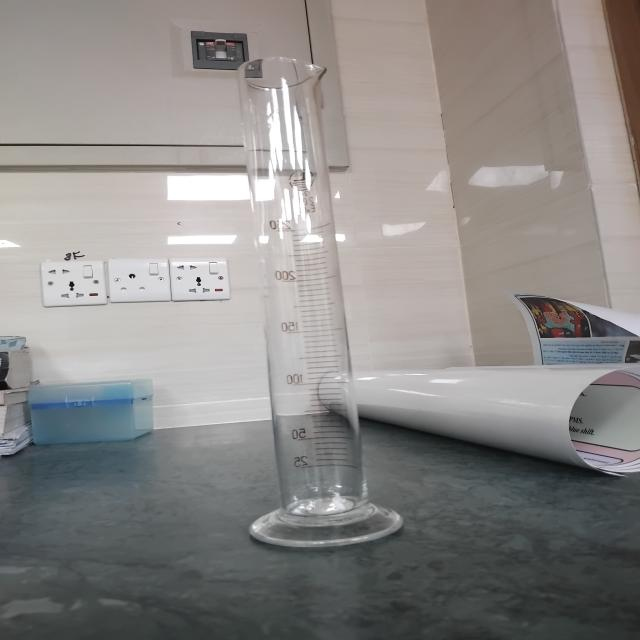Measuring_Cylinder: (208, 25, 424, 568)
